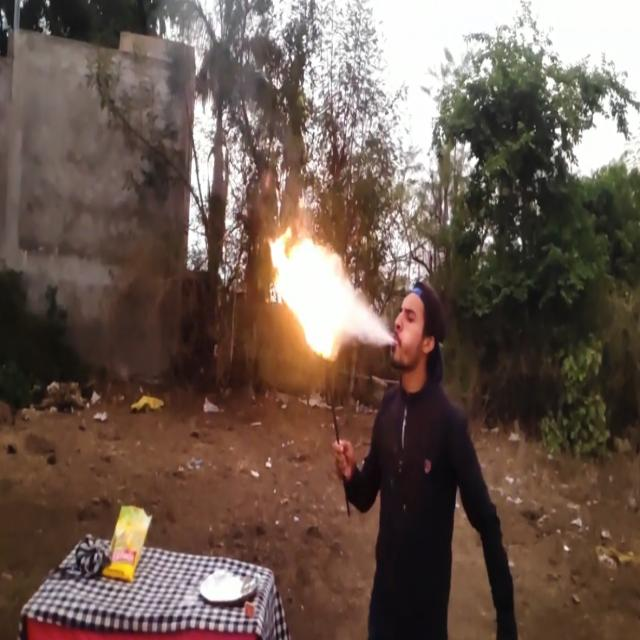fire: (270, 227, 360, 360)
